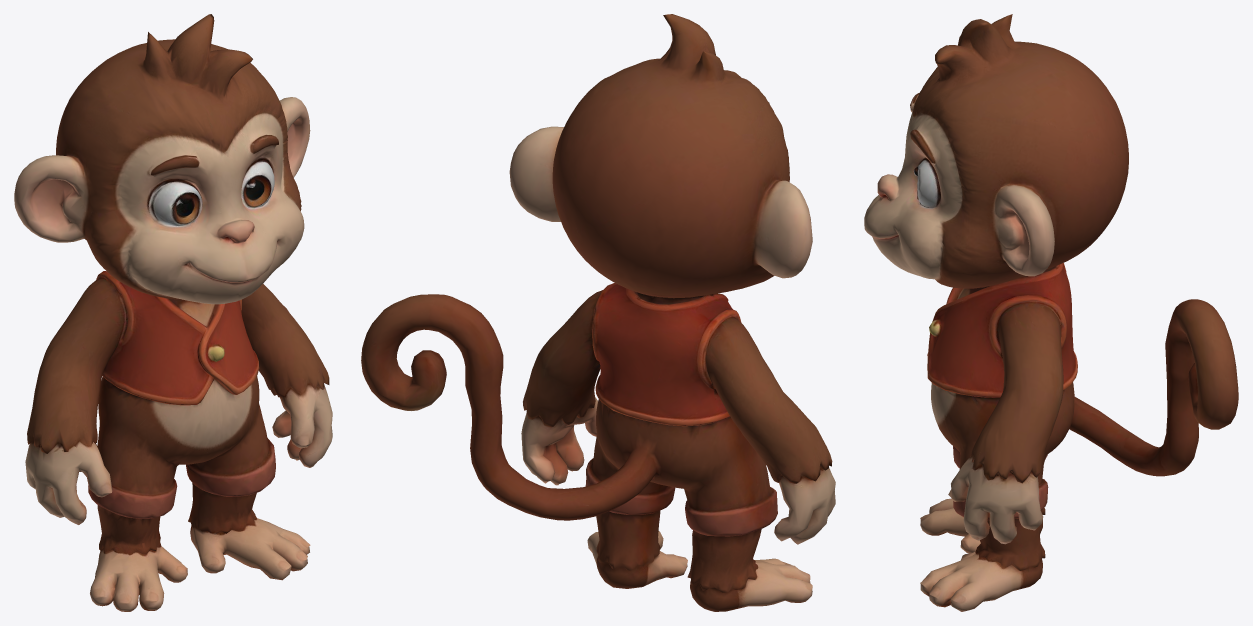
File: monkey.glb
3 renders of one model, left to right at view 1: azimuth 30°, elevation 25°; view 2: azimuth 150°, elevation 25°; view 3: azimuth 270°, elevation 25°, orthographic. The views are drawn at different scales.
Parts seen in each view (by area): view 1: tripo_node_71d4072b-4932-46c4-9bf3-b55204db5752; view 2: tripo_node_71d4072b-4932-46c4-9bf3-b55204db5752; view 3: tripo_node_71d4072b-4932-46c4-9bf3-b55204db5752.
Boxes of the visible parts, x1=… form: tripo_node_71d4072b-4932-46c4-9bf3-b55204db5752: x1=14, y1=14, x2=332, y2=611; tripo_node_71d4072b-4932-46c4-9bf3-b55204db5752: x1=361, y1=14, x2=835, y2=611; tripo_node_71d4072b-4932-46c4-9bf3-b55204db5752: x1=864, y1=14, x2=1238, y2=611.
Size of the model in its own units: 0.6408 by 0.9792 by 0.6015.
1 material, 1 textured.
